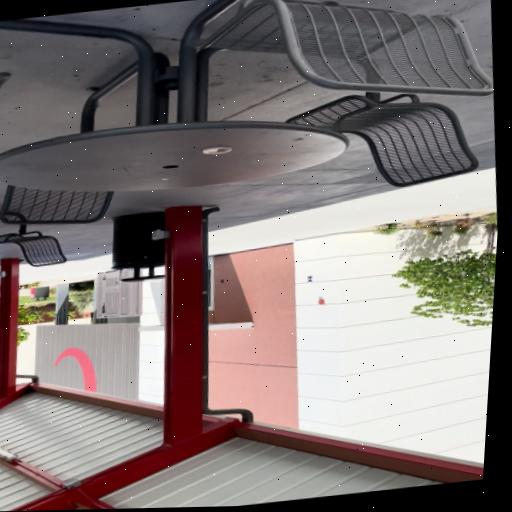target2: (306, 276, 314, 283)
